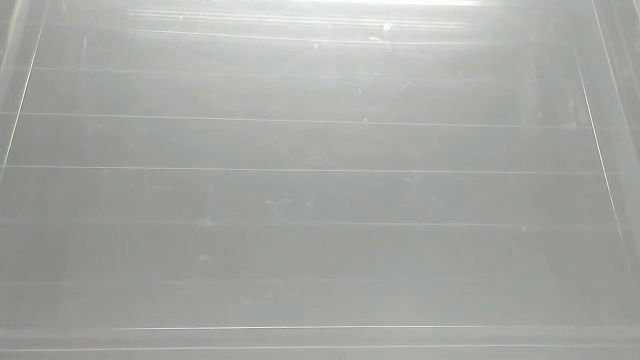alpha: (381, 21, 392, 34)
